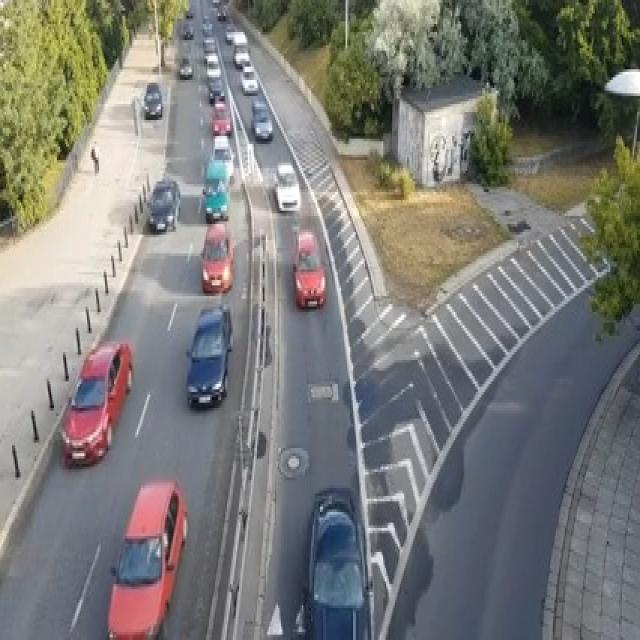car: (105, 478, 186, 638), (295, 486, 371, 638), (60, 338, 132, 466), (185, 301, 233, 408), (291, 227, 326, 309), (200, 222, 233, 294), (147, 179, 180, 232), (274, 160, 300, 211), (202, 176, 228, 221), (210, 134, 234, 182), (251, 99, 272, 141), (141, 80, 162, 117), (210, 101, 232, 136), (204, 157, 228, 187), (240, 64, 258, 93), (207, 77, 224, 101), (206, 53, 221, 80), (203, 35, 216, 61), (233, 48, 249, 67), (179, 56, 192, 77), (224, 21, 234, 43), (233, 30, 246, 46), (202, 18, 214, 34), (183, 22, 194, 38), (217, 8, 226, 19), (185, 8, 192, 19), (211, 0, 219, 5)
